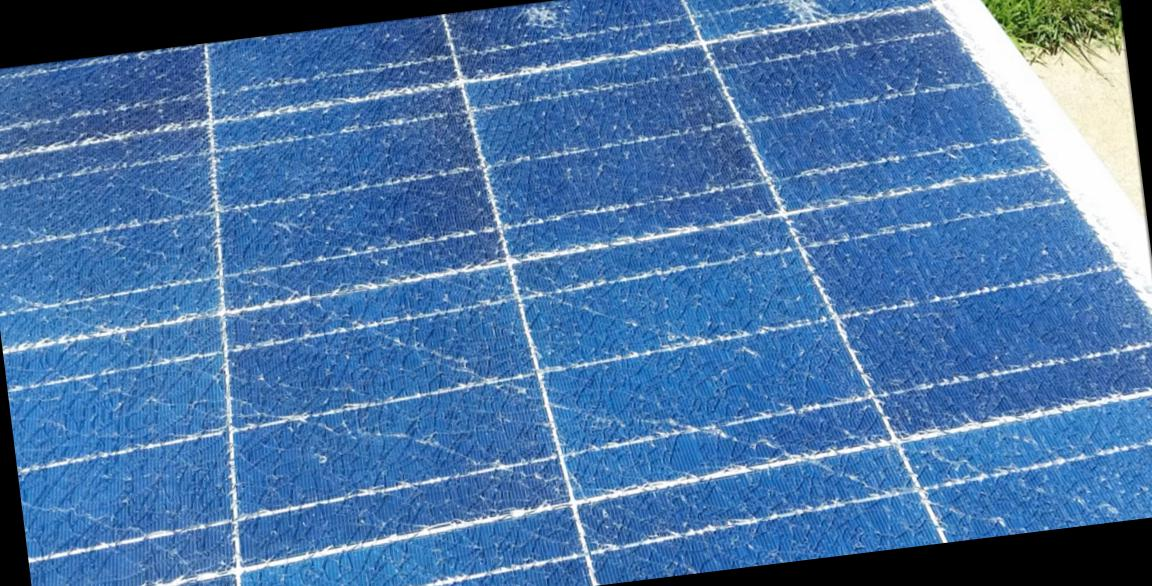Crack: (746, 0, 871, 53), (502, 0, 590, 52)
